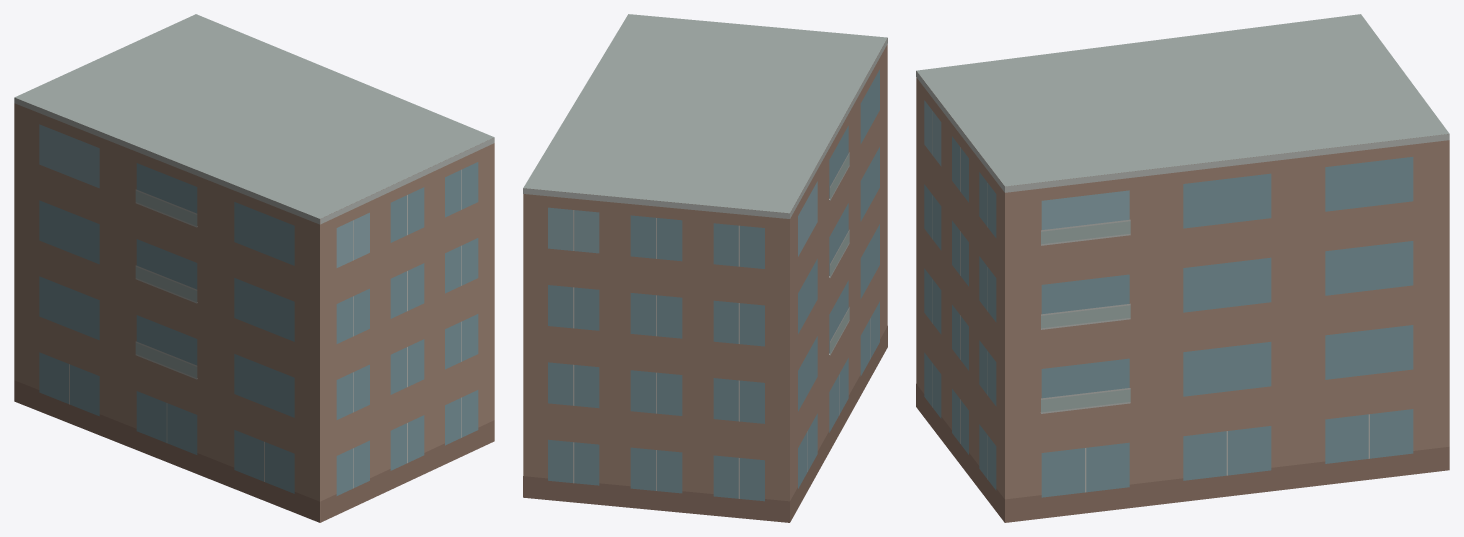
File: survey-upis-32610050.glb
The picture shows the model from 3 angles, left to right: view 1: azimuth 30°, elevation 25°; view 2: azimuth 150°, elevation 25°; view 3: azimuth 270°, elevation 25°; orthographic projection. The views are drawn at different scales.
Parts seen in each view (by area): view 1: survey-upis-32610050.tmp; view 2: survey-upis-32610050.tmp; view 3: survey-upis-32610050.tmp.
Boxes of the visible parts, box(x1,y1,x2,y2) form: survey-upis-32610050.tmp: box(14, 14, 494, 522); survey-upis-32610050.tmp: box(523, 14, 887, 522); survey-upis-32610050.tmp: box(916, 14, 1449, 522).
Size of the model in its own units: 14.31 by 13 by 18.7.
